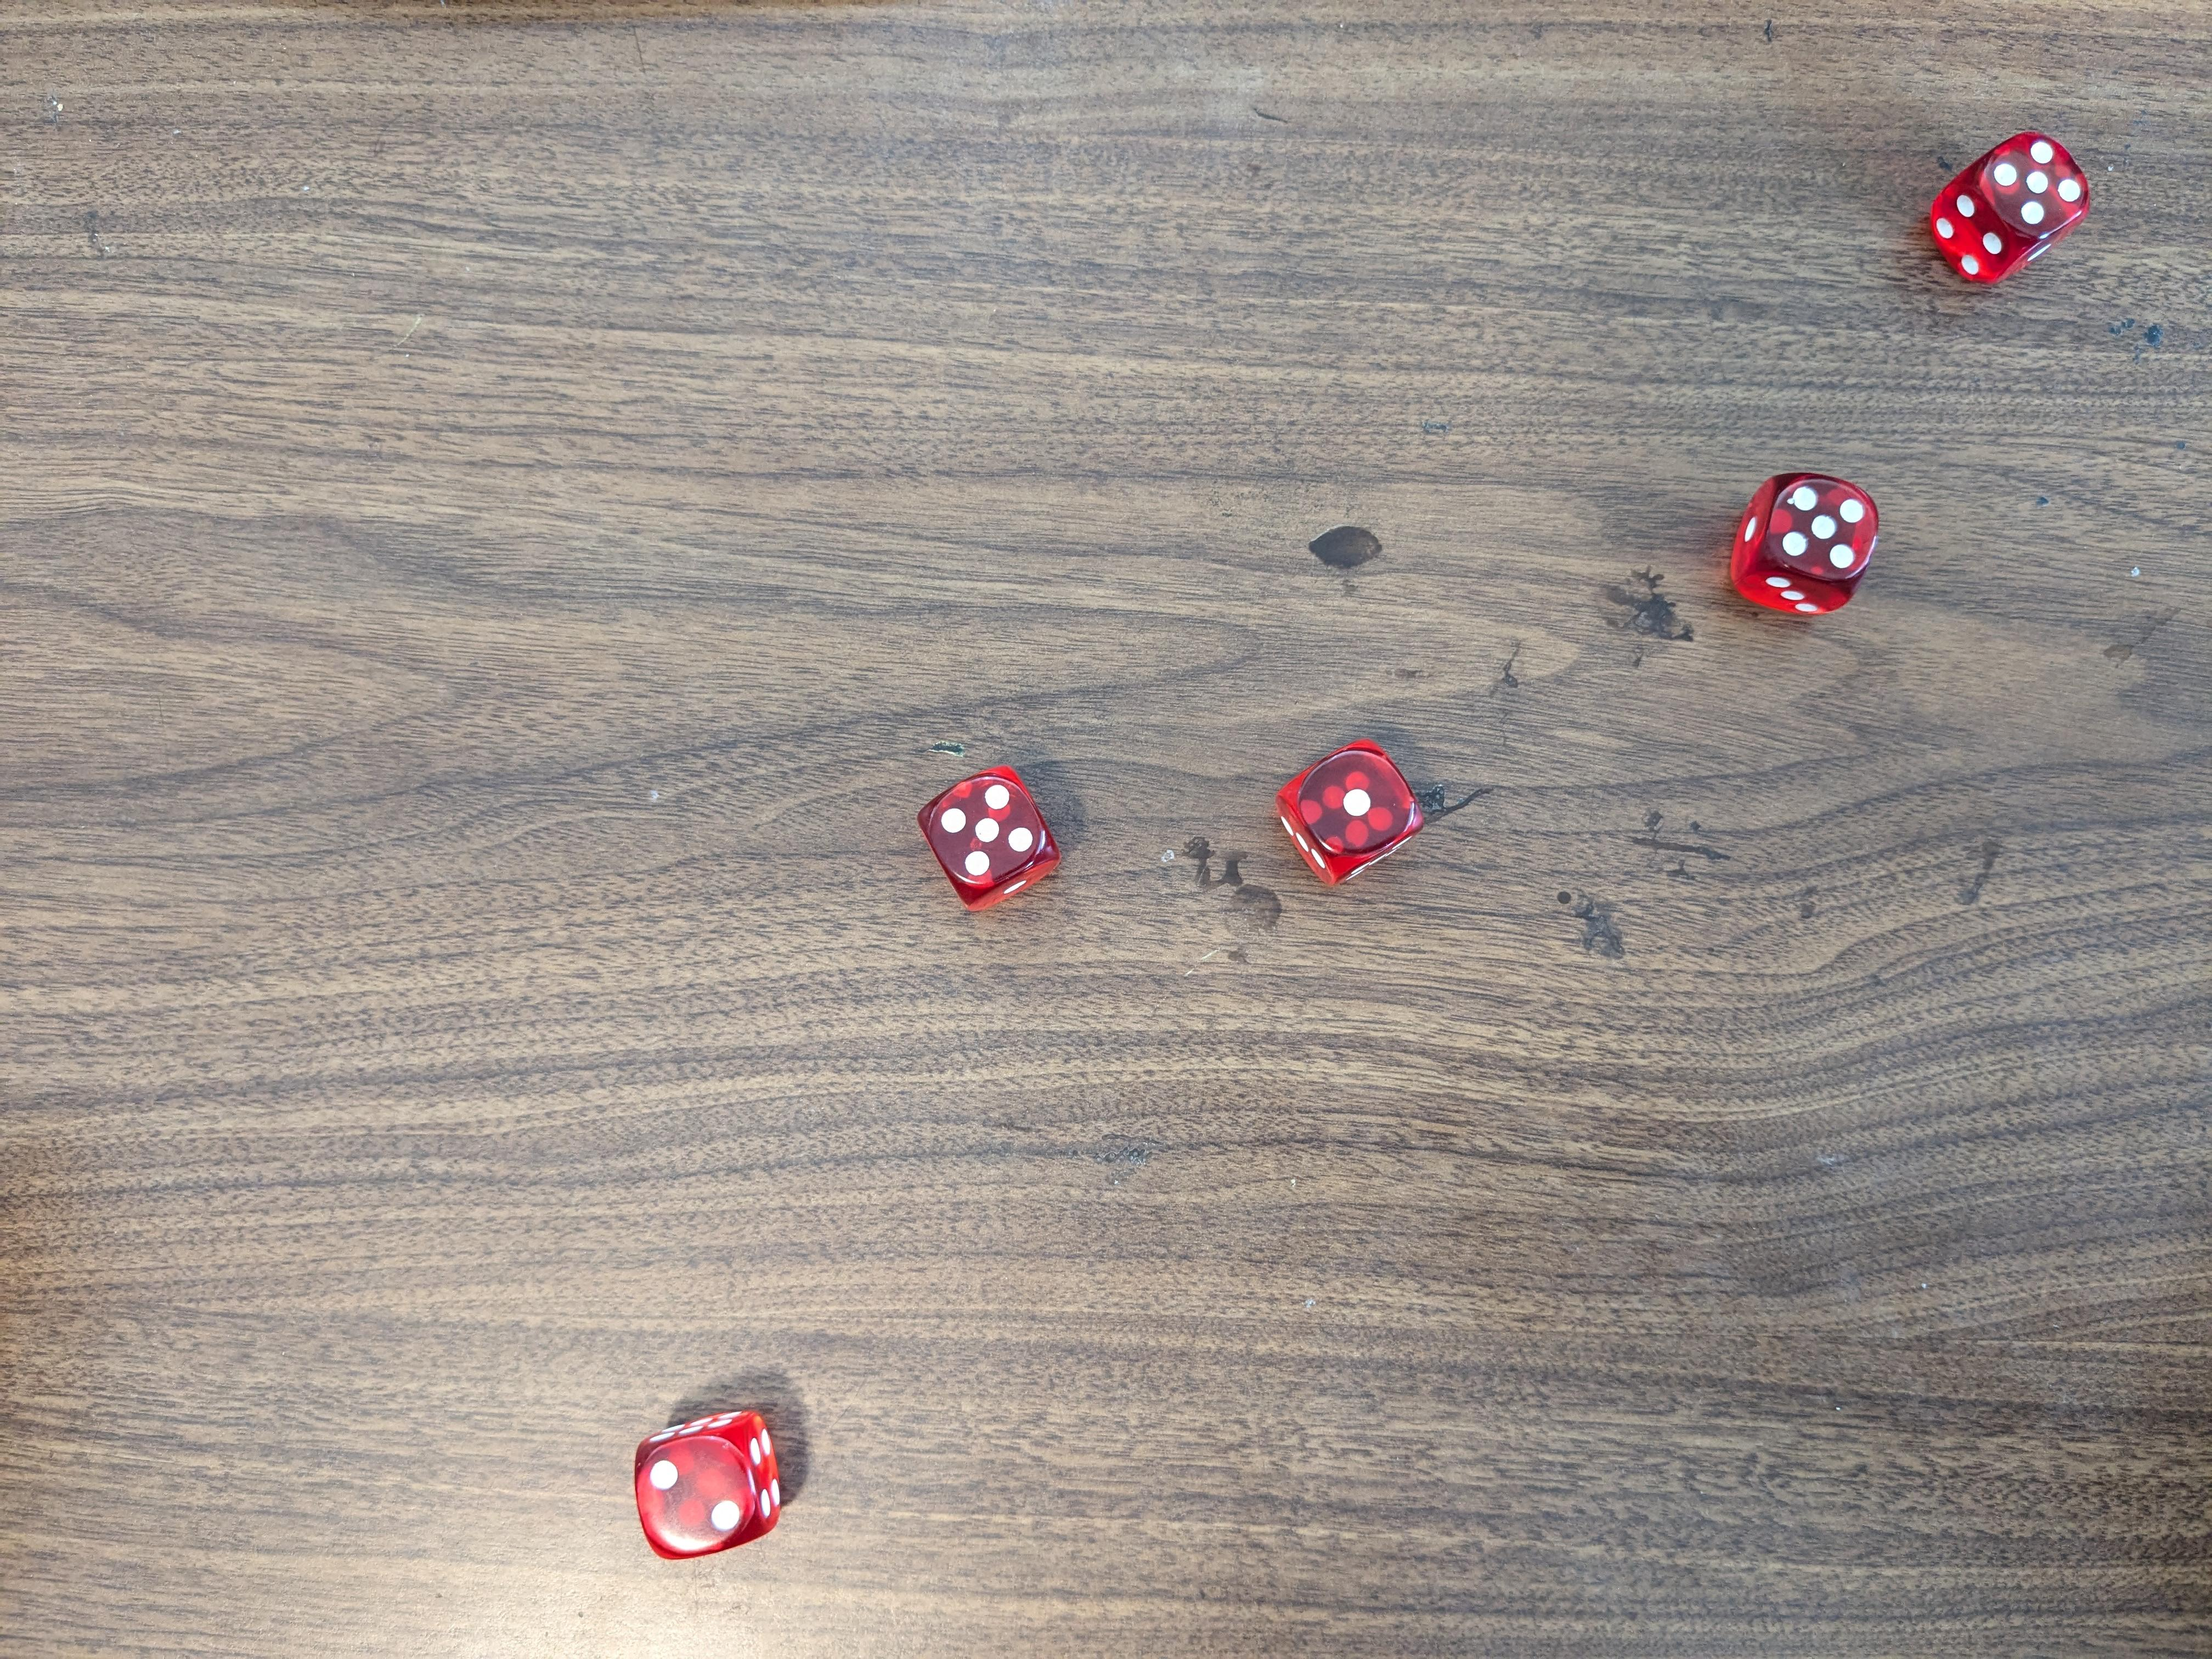five: (1928, 122, 2095, 286), (911, 765, 1062, 915), (1730, 471, 1879, 617)
one: (1278, 739, 1433, 884)
two: (632, 1406, 786, 1567)
